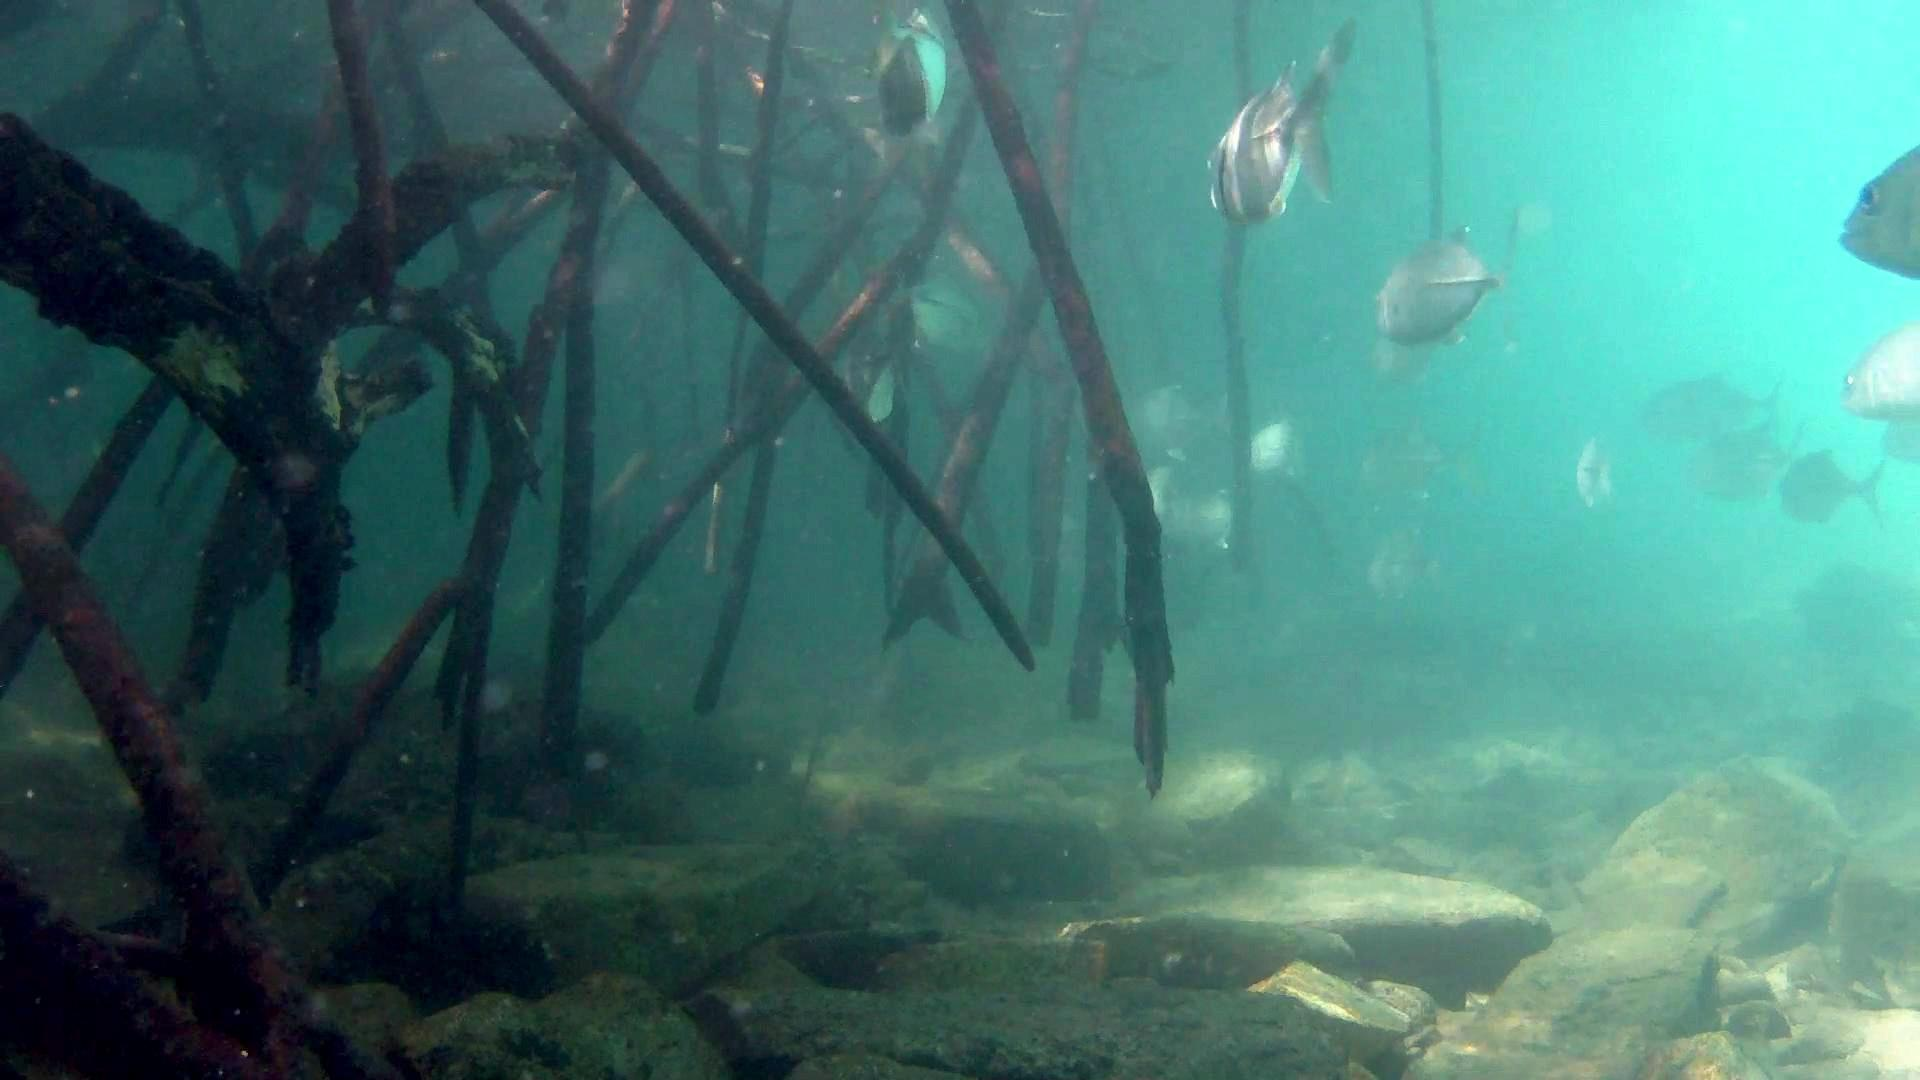caranx: (1191, 23, 1378, 232), (1348, 210, 1543, 359), (1823, 115, 1920, 296)
